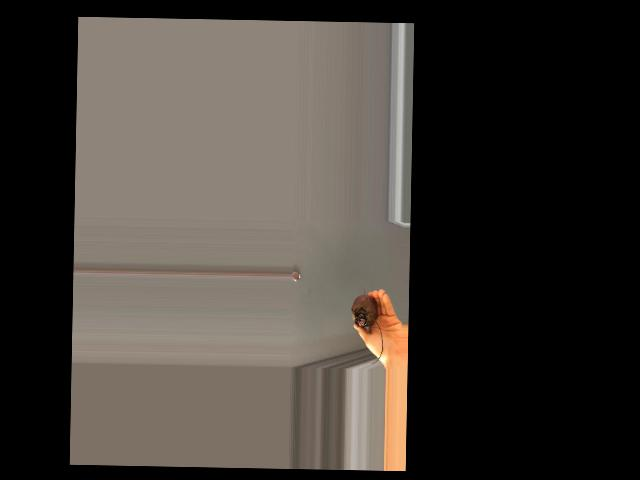beet: (351, 285, 384, 363)
